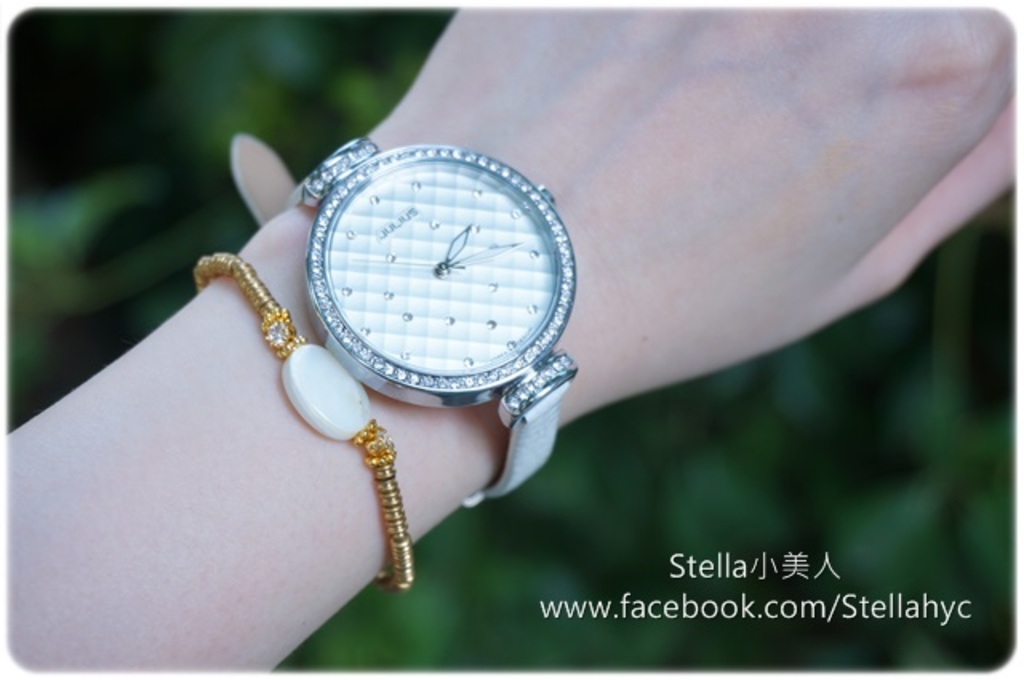watch: (299, 134, 579, 499)
